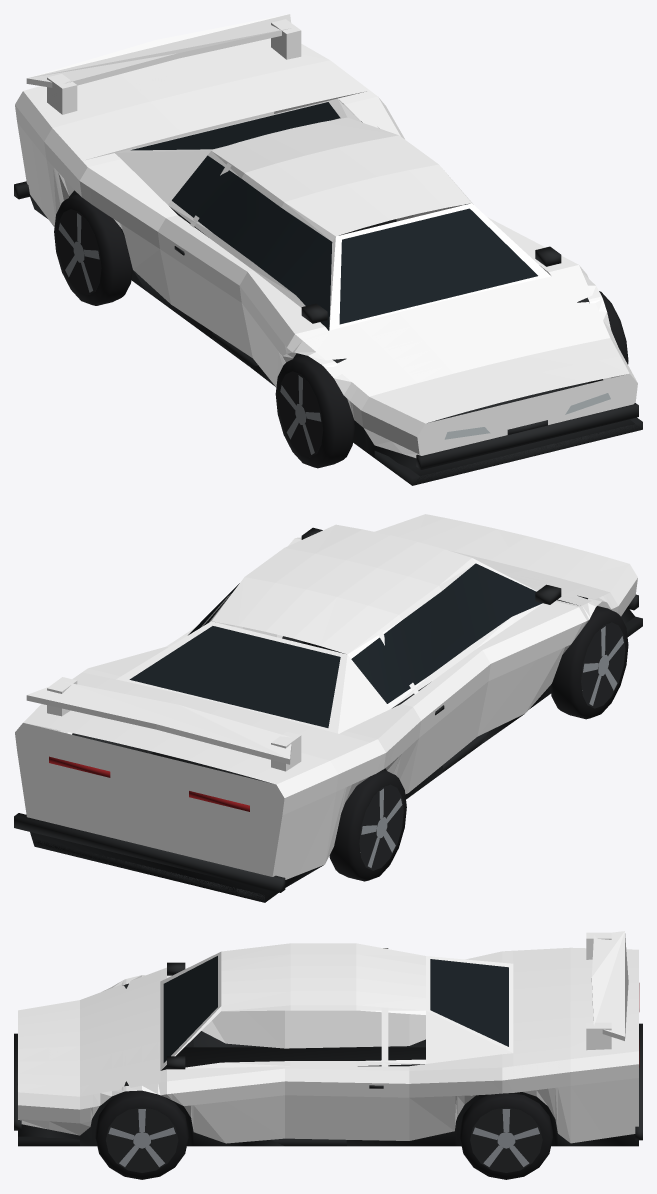
The model's file is corsalto_forja.glb.
3 renders of one model, top to bottom at view 1: azimuth 30°, elevation 25°; view 2: azimuth 150°, elevation 25°; view 3: azimuth 270°, elevation 25°, orthographic. The views are drawn at different scales.
Visible parts, largest first — view 1: Body_Paint, Body_Details, Mount_FrontLeft_Wheel_Details, Mount_RearLeft_Wheel_Details; view 2: Body_Paint, Body_Details, Mount_RearLeft_Wheel_Details, Mount_FrontLeft_Wheel_Details; view 3: Body_Paint, Body_Details, Mount_FrontRight_Wheel_Details, Mount_RearRight_Wheel_Details.
Boxes of the visible parts, x1,y1,x2,y2 form: Body_Paint: [15, 14, 637, 457]; Body_Details: [14, 102, 642, 485]; Mount_FrontLeft_Wheel_Details: [275, 355, 354, 468]; Mount_RearLeft_Wheel_Details: [54, 194, 132, 305]; Body_Paint: [15, 514, 637, 879]; Body_Details: [14, 527, 642, 902]; Mount_RearLeft_Wheel_Details: [329, 770, 406, 881]; Mount_FrontLeft_Wheel_Details: [550, 606, 628, 719]; Body_Paint: [18, 931, 638, 1143]; Body_Details: [14, 956, 642, 1146]; Mount_FrontRight_Wheel_Details: [95, 1090, 188, 1179]; Mount_RearRight_Wheel_Details: [459, 1093, 552, 1179].
Size of the model in its own units: 2.06 by 1.17 by 4.45.
Materials: 2 (1 with a texture image).
